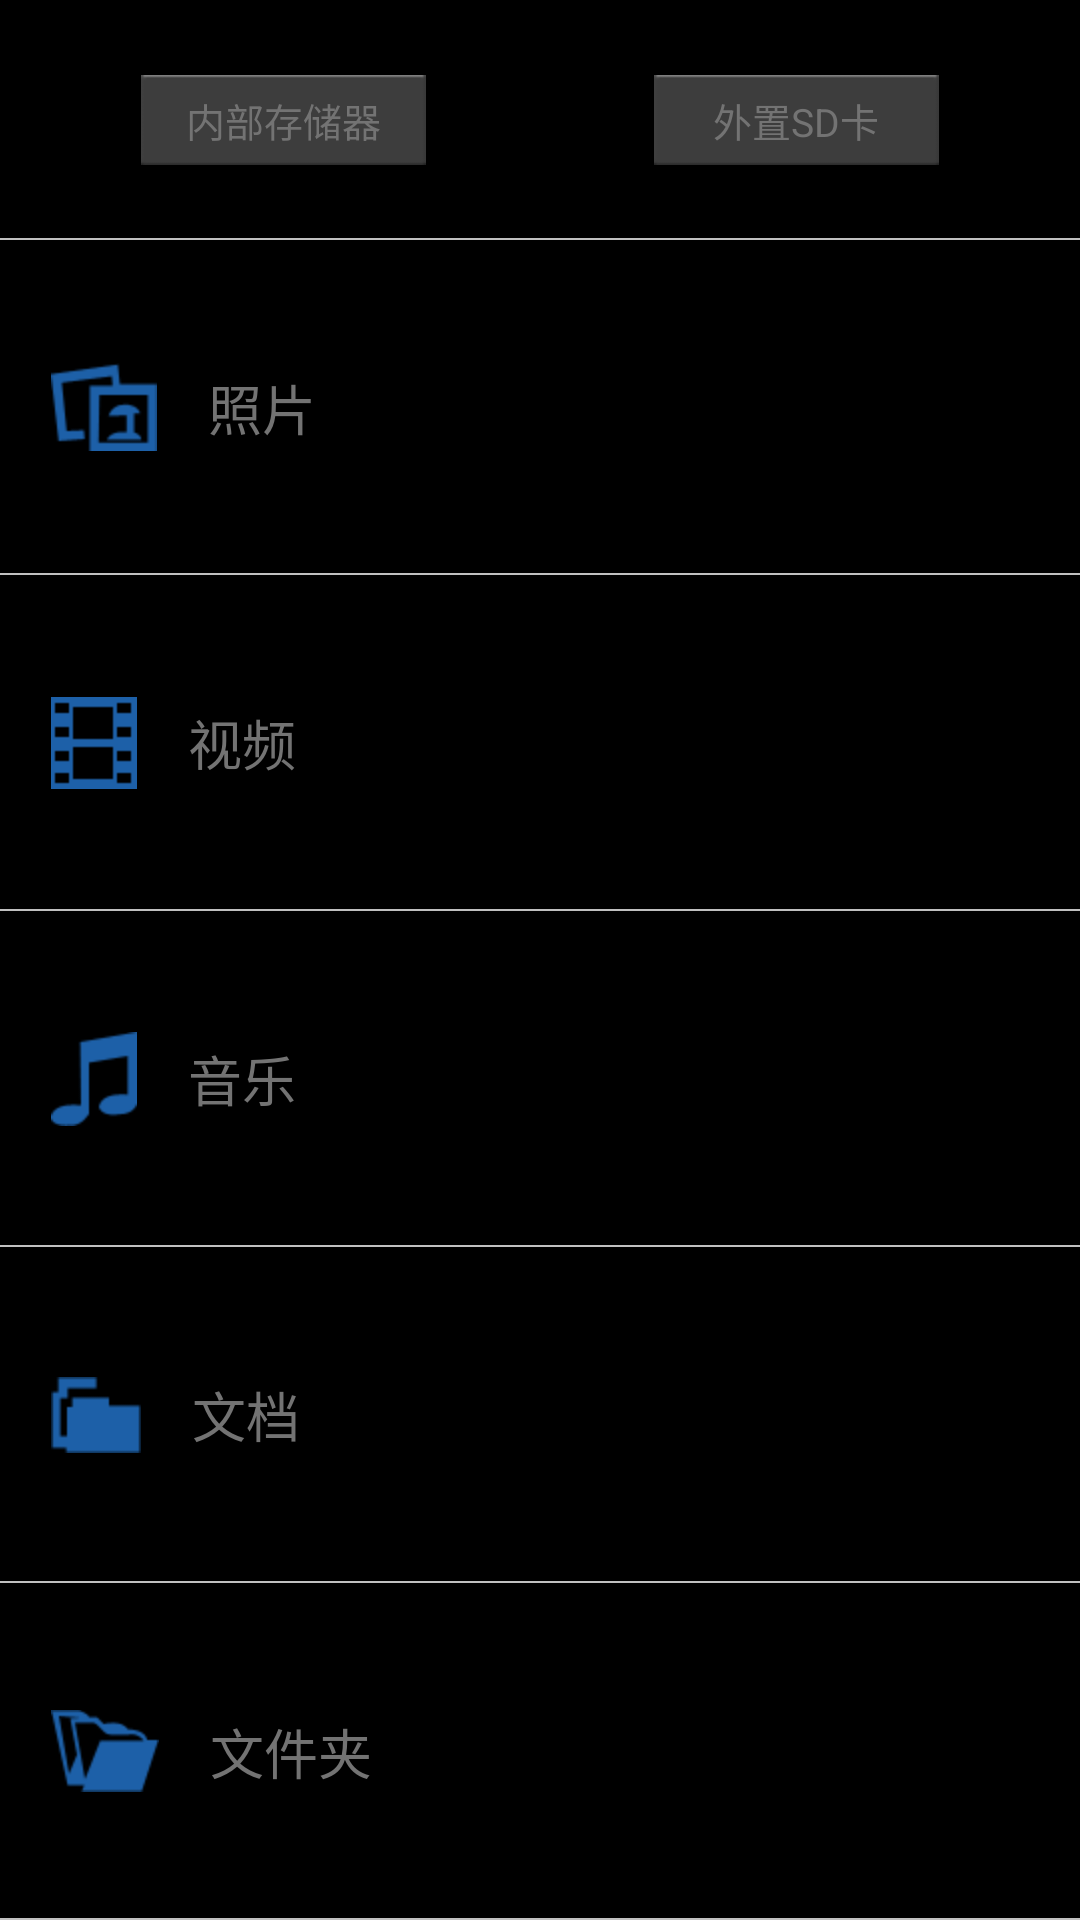

Screen size 1080 × 1920. Icon name, then its center in pixels as (x,y):
folder: (105,1751)
music: (94,1079)
photo: (104,407)
video: (94,743)
